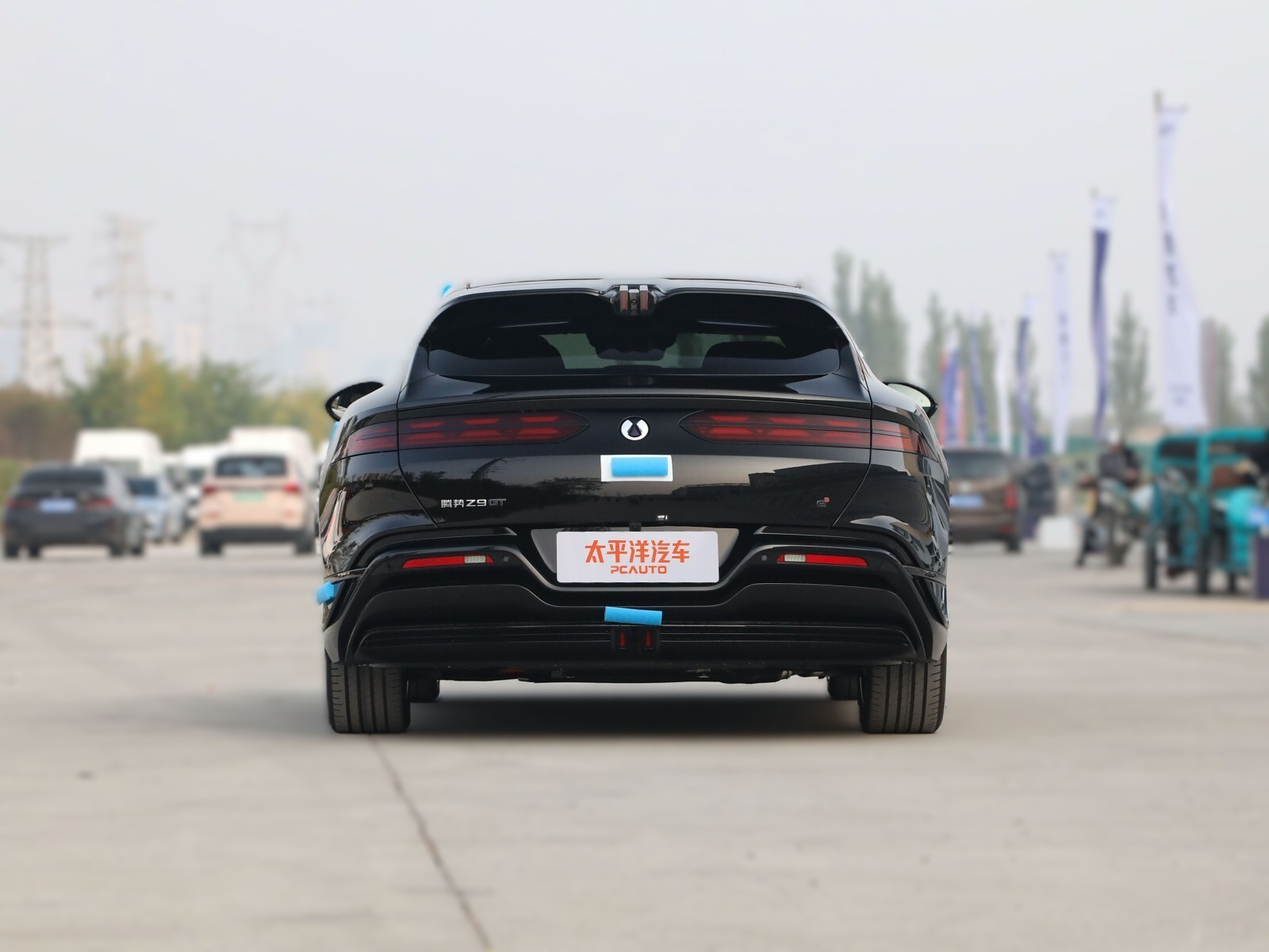DENZA: (622, 420, 648, 440)
